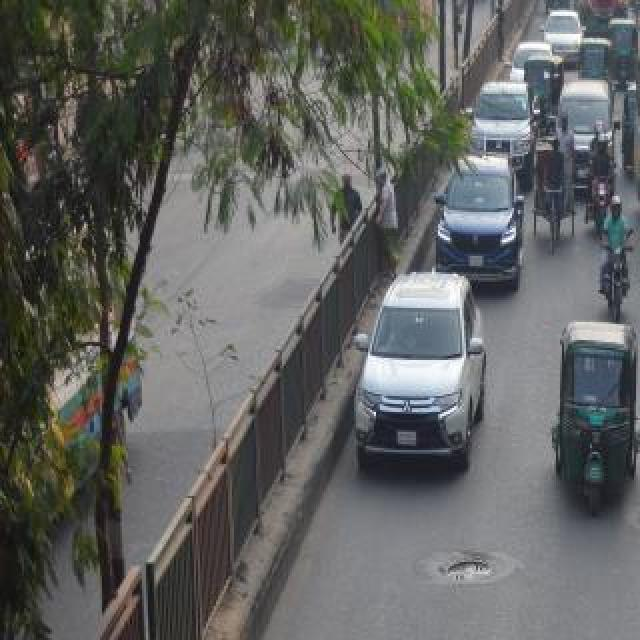car: (347, 273, 487, 457), (431, 162, 521, 274), (472, 84, 532, 154), (546, 10, 580, 56), (501, 37, 529, 77)
motorbike: (598, 196, 634, 326), (581, 119, 613, 223)
van: (564, 81, 598, 179)
